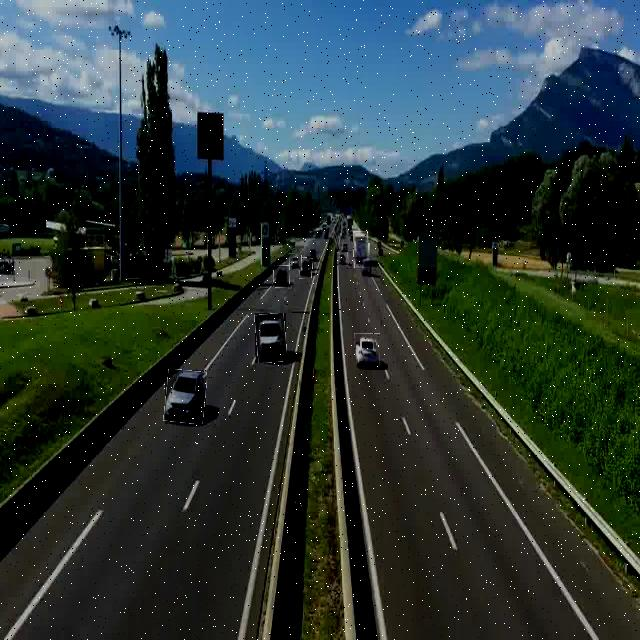Car: (165, 370, 206, 424), (255, 313, 286, 363), (354, 333, 380, 366), (274, 266, 290, 288), (299, 258, 313, 279), (289, 253, 302, 271), (338, 252, 350, 266)
Truck: (354, 231, 369, 268)
